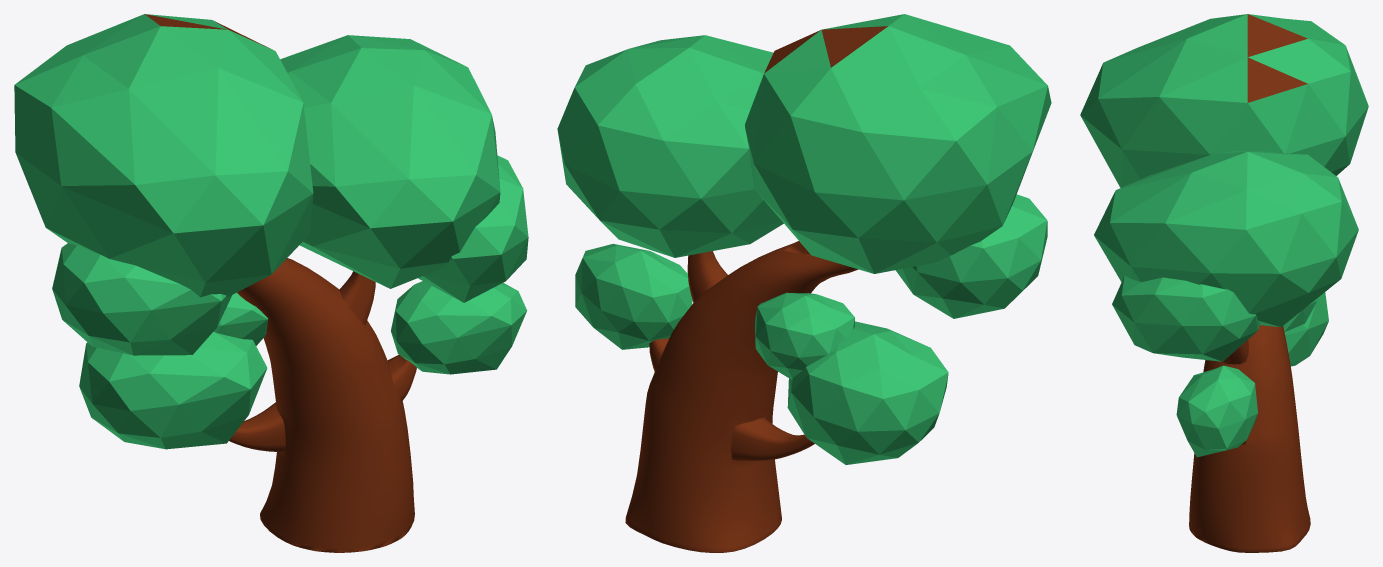
Rendered from tree1.fbx.
3 renders of one model, left to right at view 1: azimuth 30°, elevation 25°; view 2: azimuth 150°, elevation 25°; view 3: azimuth 270°, elevation 25°, orthographic. The views are drawn at different scales.
Parts seen in each view (by area): view 1: Cylinder041; view 2: Cylinder041; view 3: Cylinder041.
Part boxes in pixels (left/top/right/bottom): Cylinder041: left=14, top=14, right=528, bottom=552; Cylinder041: left=557, top=14, right=1051, bottom=552; Cylinder041: left=1080, top=14, right=1368, bottom=552.
Bounding box in the file's own units: 118 × 133 × 78.84.
